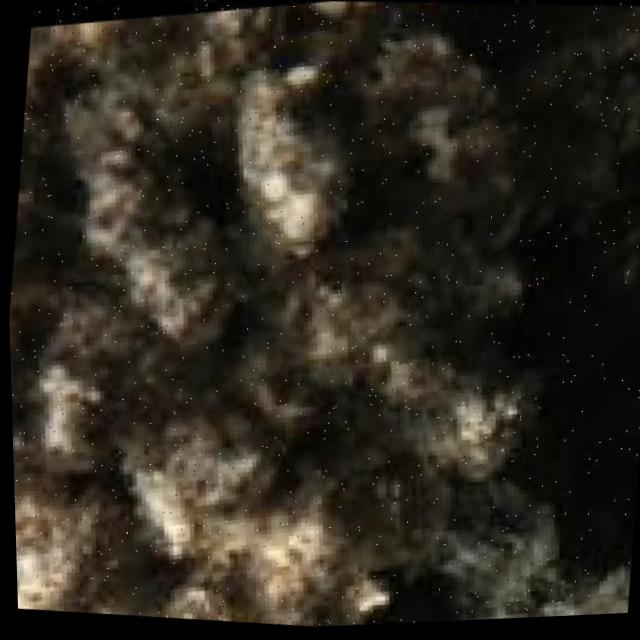Dead Coral: (1, 16, 556, 640)
